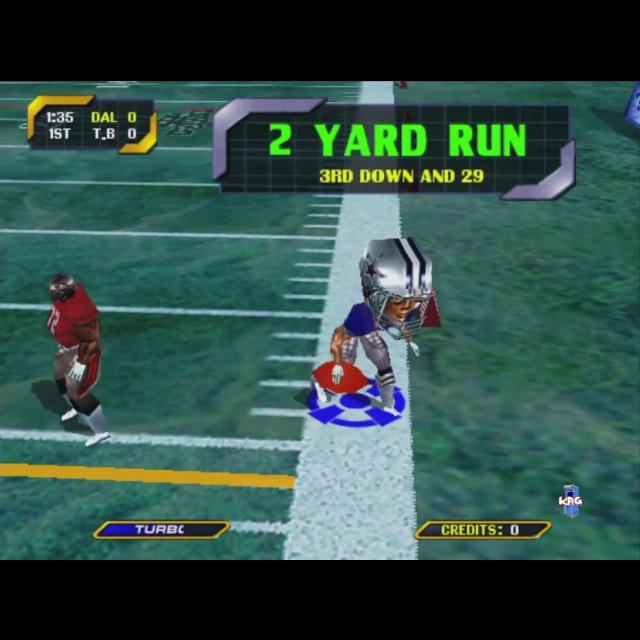player: (312, 235, 440, 417), (46, 272, 112, 444)
